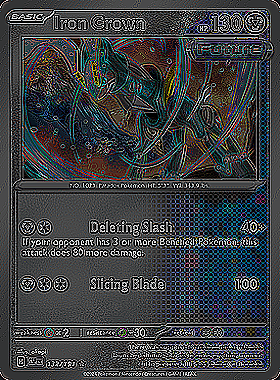Iron_Crown: (0, 0, 280, 380)
